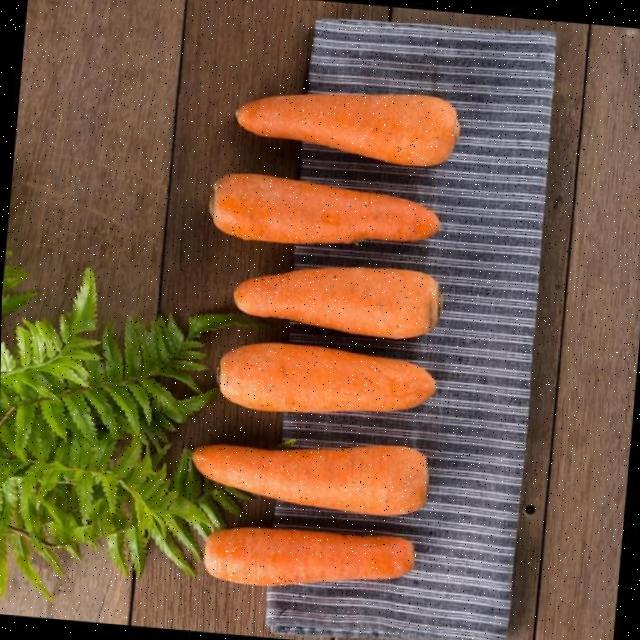carrot: (191, 444, 426, 515), (209, 173, 439, 243), (235, 94, 458, 166), (217, 343, 435, 412), (232, 267, 440, 339), (204, 527, 413, 586)
